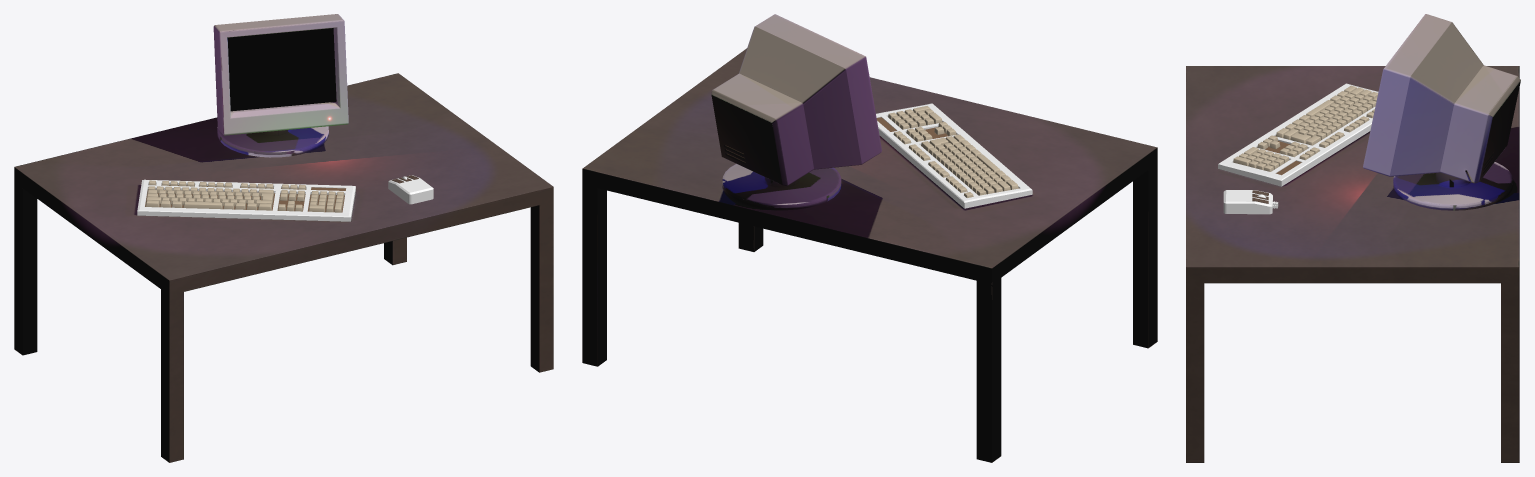
The model's file is seance1.glb.
3 renders of one model, left to right at view 1: azimuth 30°, elevation 25°; view 2: azimuth 150°, elevation 25°; view 3: azimuth 270°, elevation 25°, orthographic. The views are drawn at different scales.
Visible parts, largest first — view 1: Table, Screen, ComputerCase, Plane, Base, Case; view 2: Table, ComputerCase, Base, Plane; view 3: Table, ComputerCase, Base, Plane, Case.
Boxes of the visible parts, x1,y1,x2,y2 form: Table: (14,73,553,462); Screen: (227,28,336,111); ComputerCase: (213,14,348,135); Plane: (137,179,355,221); Base: (217,126,328,157); Case: (388,175,433,204); Table: (582,48,1157,462); ComputerCase: (711,14,881,185); Base: (722,163,841,210); Plane: (876,103,1032,208); Table: (1186,66,1519,462); ComputerCase: (1363,14,1520,183); Base: (1393,162,1513,210); Plane: (1218,83,1378,186); Case: (1223,190,1278,214).
Size of the model in its own units: 3.97 by 3.06 by 2.79.
Materials: 8 (2 with a texture image).
